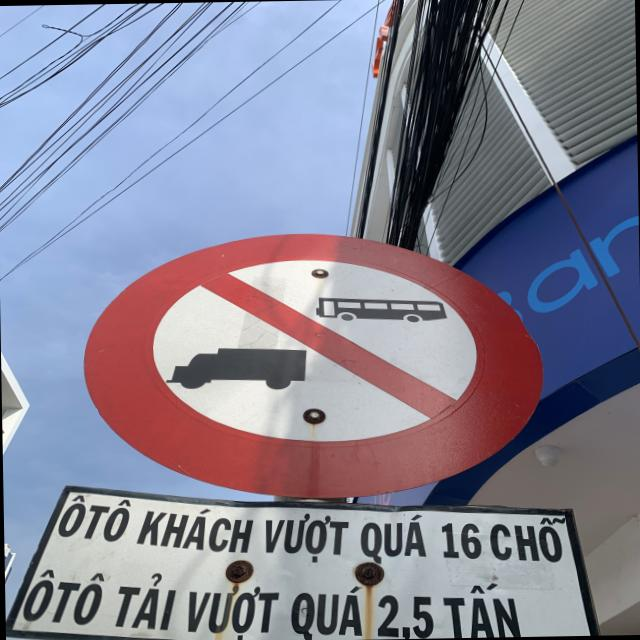Cam_XeTai_XeKhach: (78, 226, 546, 506)
